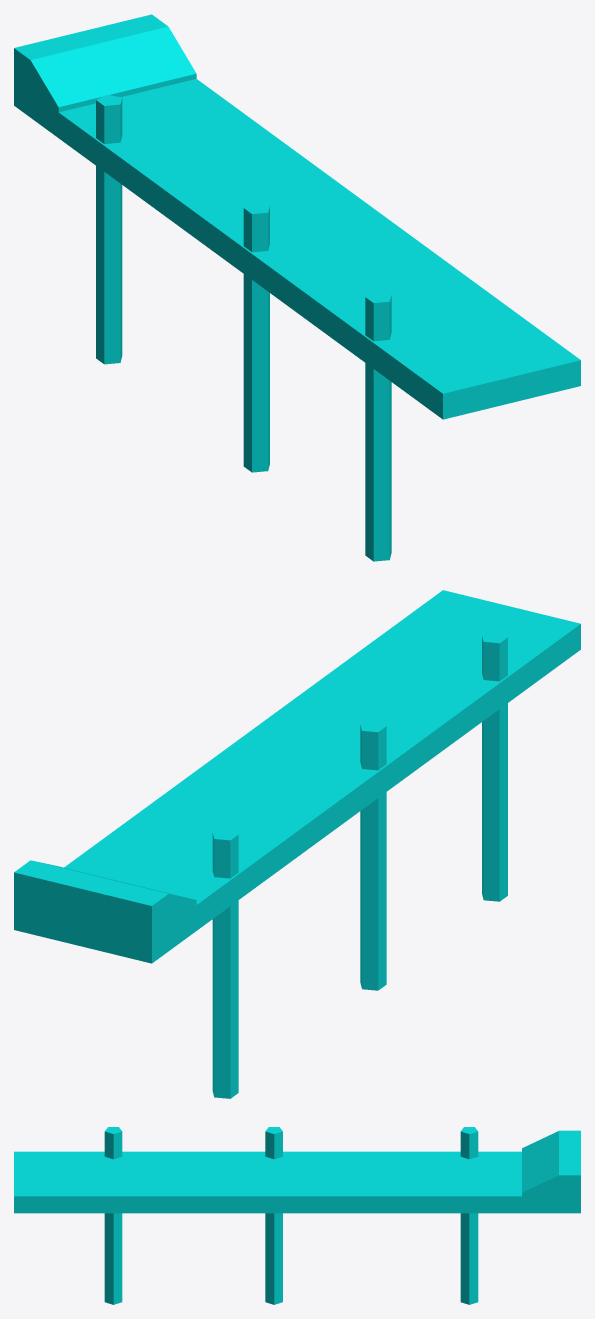
The model's file is SM_Bld_Background_Dock_03_Collision.fbx.
The picture shows the model from 3 angles, top to bottom: view 1: azimuth 30°, elevation 25°; view 2: azimuth 150°, elevation 25°; view 3: azimuth 270°, elevation 25°; orthographic projection. The views are drawn at different scales.
Visible parts, largest first — view 1: SM_Bld_Background_Dock_03_Collision; view 2: SM_Bld_Background_Dock_03_Collision; view 3: SM_Bld_Background_Dock_03_Collision.
Boxes of the visible parts, x1,y1,x2,y2 form: SM_Bld_Background_Dock_03_Collision: [14, 14, 580, 561]; SM_Bld_Background_Dock_03_Collision: [14, 590, 580, 1098]; SM_Bld_Background_Dock_03_Collision: [14, 1127, 580, 1304].
Bounding box in the file's own units: 325 × 582 × 1750.
